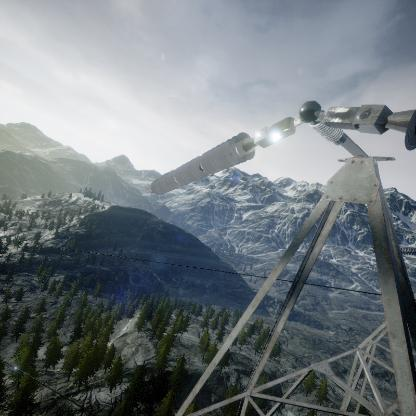insulator: (149, 126, 267, 197)
